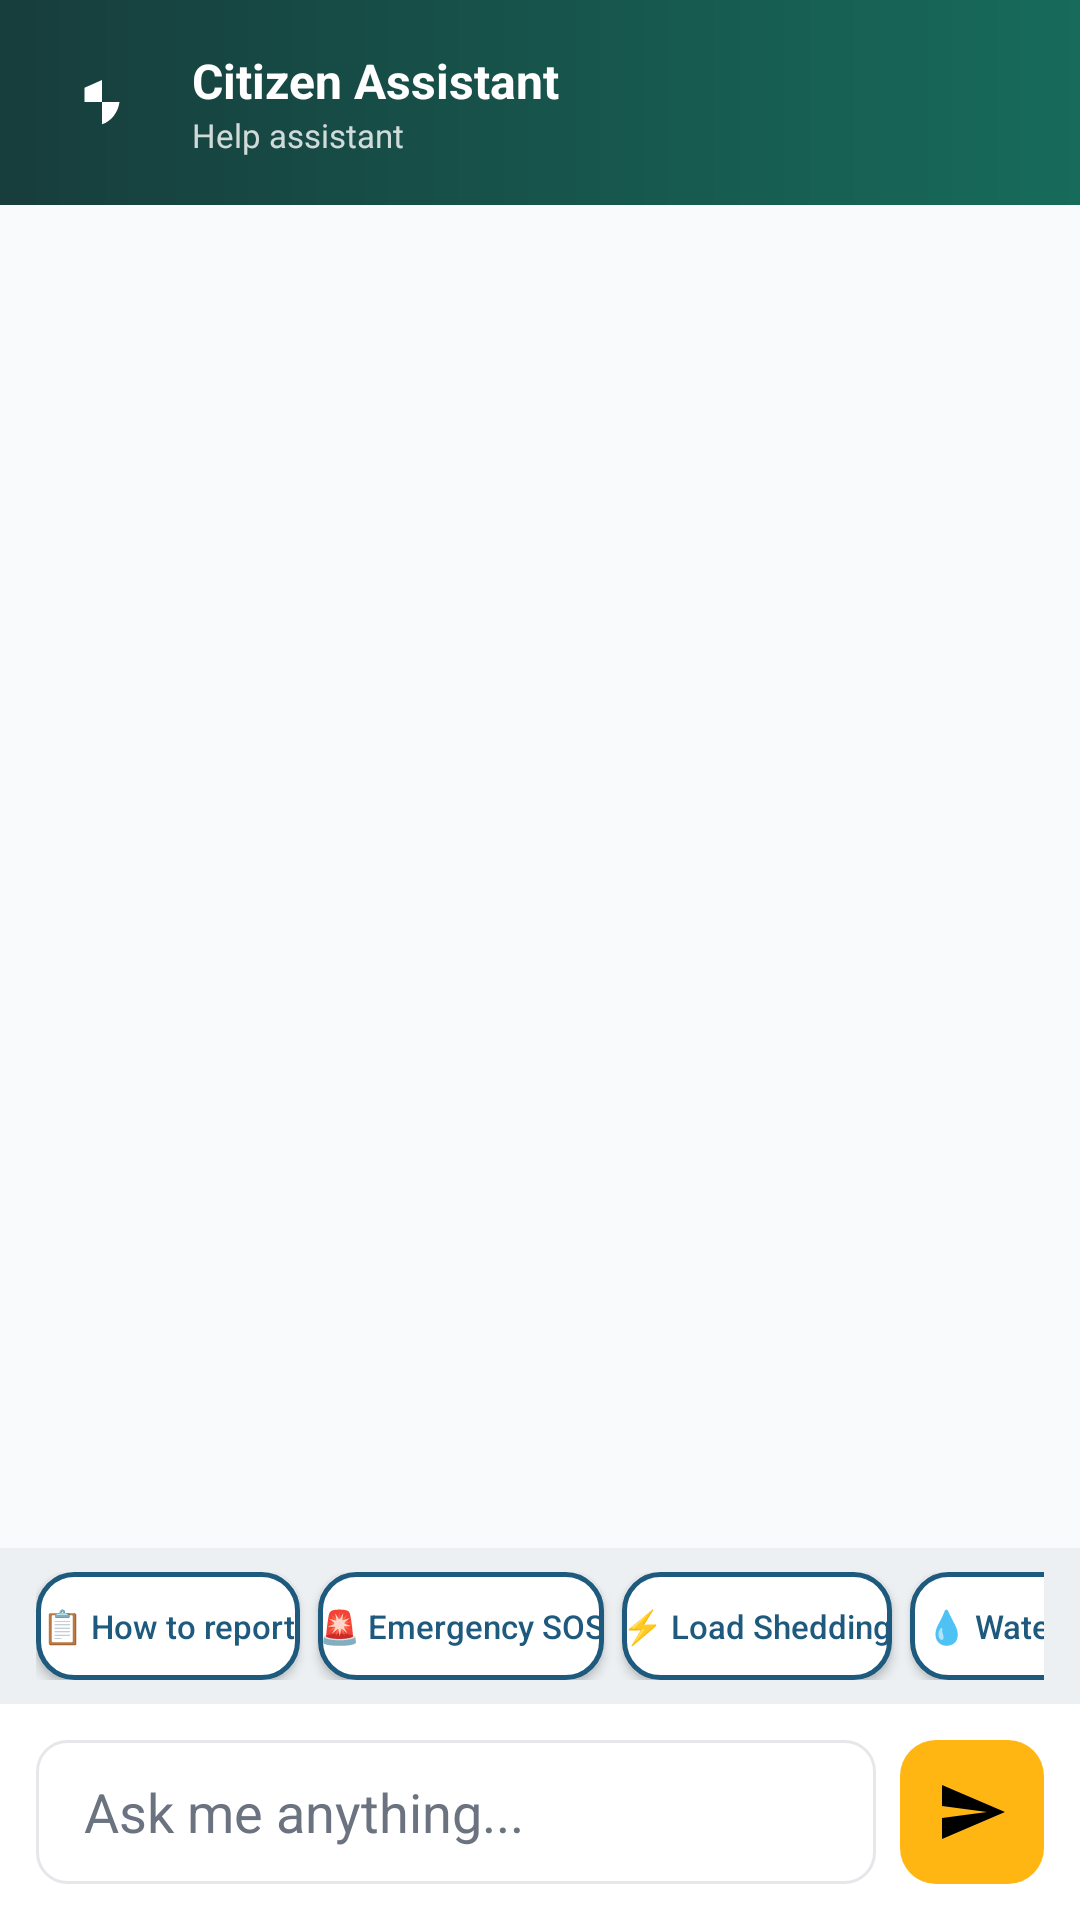

Where to tap for icons on this 1080 x 1920 app screen, as (x=x, y=y):
security: (x=102, y=102)
